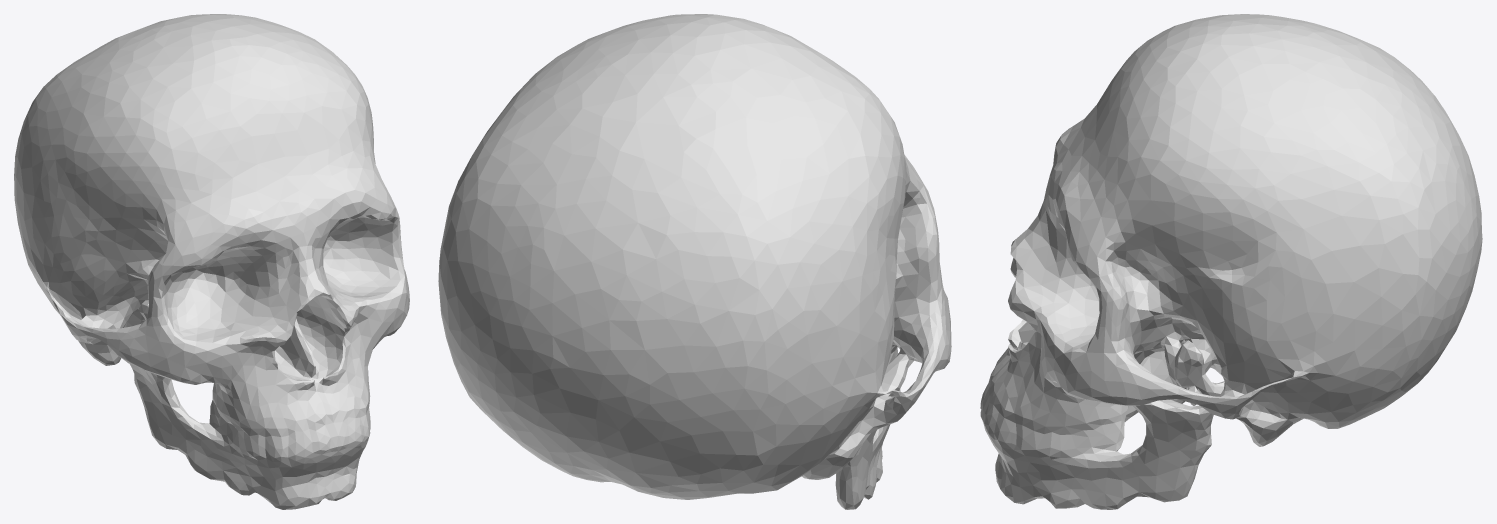
The model's file is skull_one_r2.glb.
3 renders of one model, left to right at view 1: azimuth 30°, elevation 25°; view 2: azimuth 150°, elevation 25°; view 3: azimuth 270°, elevation 25°, orthographic. The views are drawn at different scales.
Parts seen in each view (by area): view 1: Low; view 2: Low; view 3: Low.
Boxes of the visible parts, <box> form: Low: <box>14,14,409,509</box>; Low: <box>438,14,951,509</box>; Low: <box>980,14,1482,509</box>.
Bounding box in the file's own units: 1.65 × 1.97 × 1.98.
Materials: 1 (1 with a texture image).
